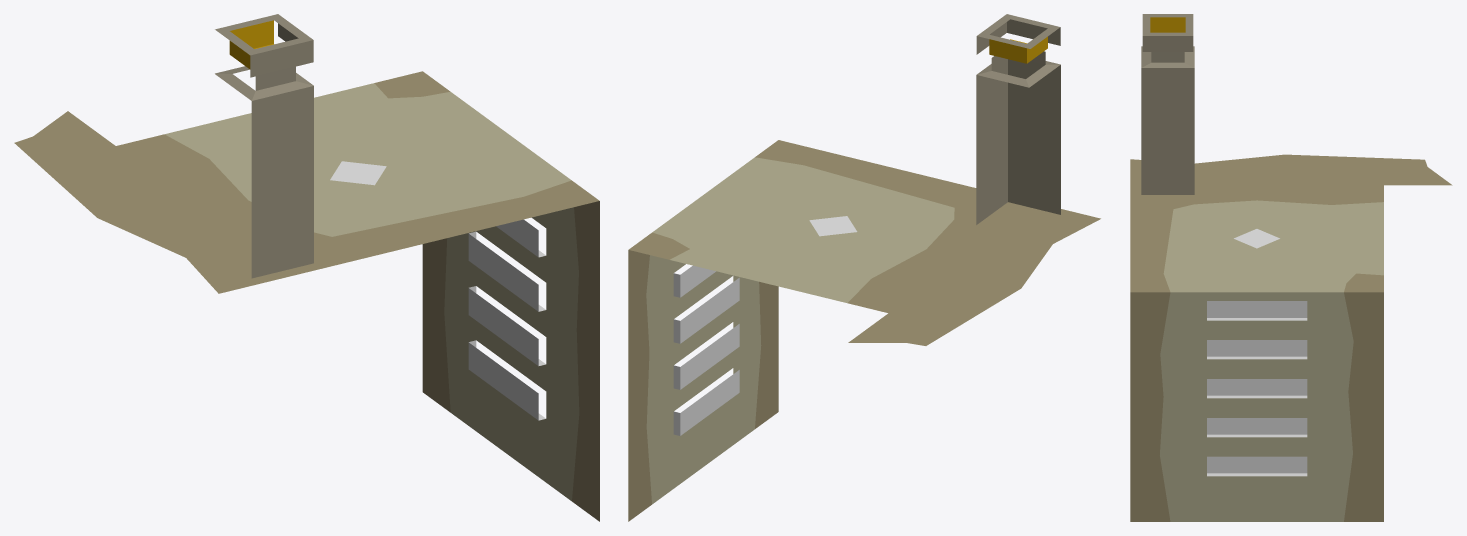
Rendered from 90S Left to Right.fbx.
3 views of the same model, side by side, from view 1: azimuth 30°, elevation 25°; view 2: azimuth 150°, elevation 25°; view 3: azimuth 270°, elevation 25° (orthographic). The views are drawn at different scales.
Visible parts, largest first — view 1: polySurface7485; view 2: polySurface7485; view 3: polySurface7485.
Boxes of the visible parts, <box> form: polySurface7485: <box>14,14,599,521</box>; polySurface7485: <box>628,14,1100,521</box>; polySurface7485: <box>1130,14,1452,521</box>.
Bounding box in the file's own units: 129 × 169 × 127.
